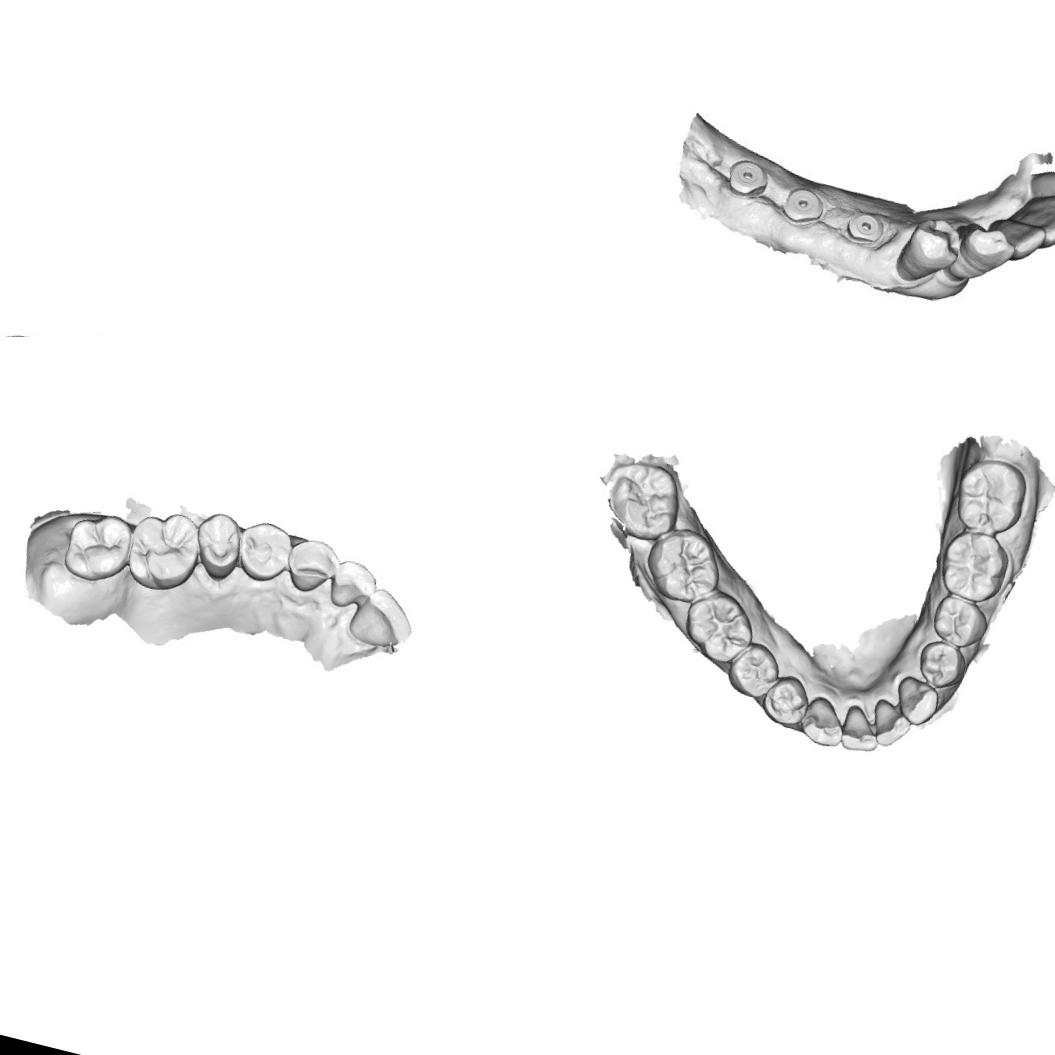canine: (943, 215, 1021, 296), (279, 531, 346, 600)
implant: (720, 152, 770, 200), (776, 182, 827, 229), (843, 209, 890, 252)
incisor: (342, 580, 423, 656), (323, 555, 382, 617), (795, 692, 851, 750), (888, 673, 944, 729), (992, 214, 1050, 268), (836, 702, 886, 757), (866, 696, 916, 751), (1014, 204, 1055, 253), (1031, 185, 1055, 230)
molar: (118, 502, 210, 600), (596, 454, 688, 547), (638, 520, 729, 610), (946, 449, 1034, 542), (676, 584, 762, 668), (933, 524, 1014, 608), (59, 504, 138, 589)
premolar: (890, 212, 962, 290), (184, 506, 249, 585), (228, 514, 296, 588), (722, 637, 784, 702), (926, 592, 992, 652), (758, 670, 814, 728), (913, 636, 970, 692)
